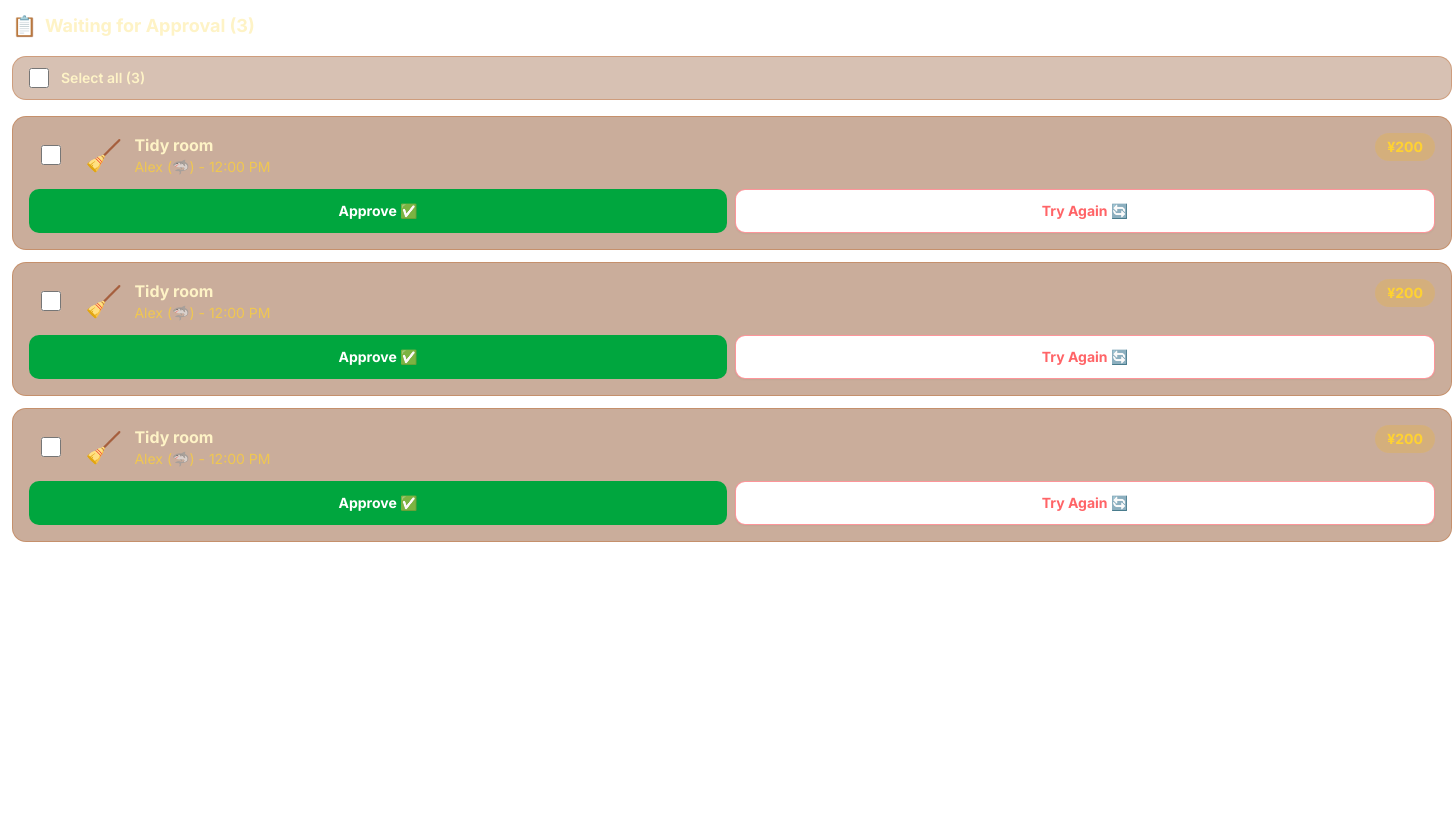
Test: ApprovalQueue › Wave 8b — bulk-approve › toggling a single card's checkbox does NOT touch the others
The width and height of the screenshot is (1452, 822).
Click the 2nd checkbox with test id "approval-card-checkbox": (51, 301) [41,291,61,311]
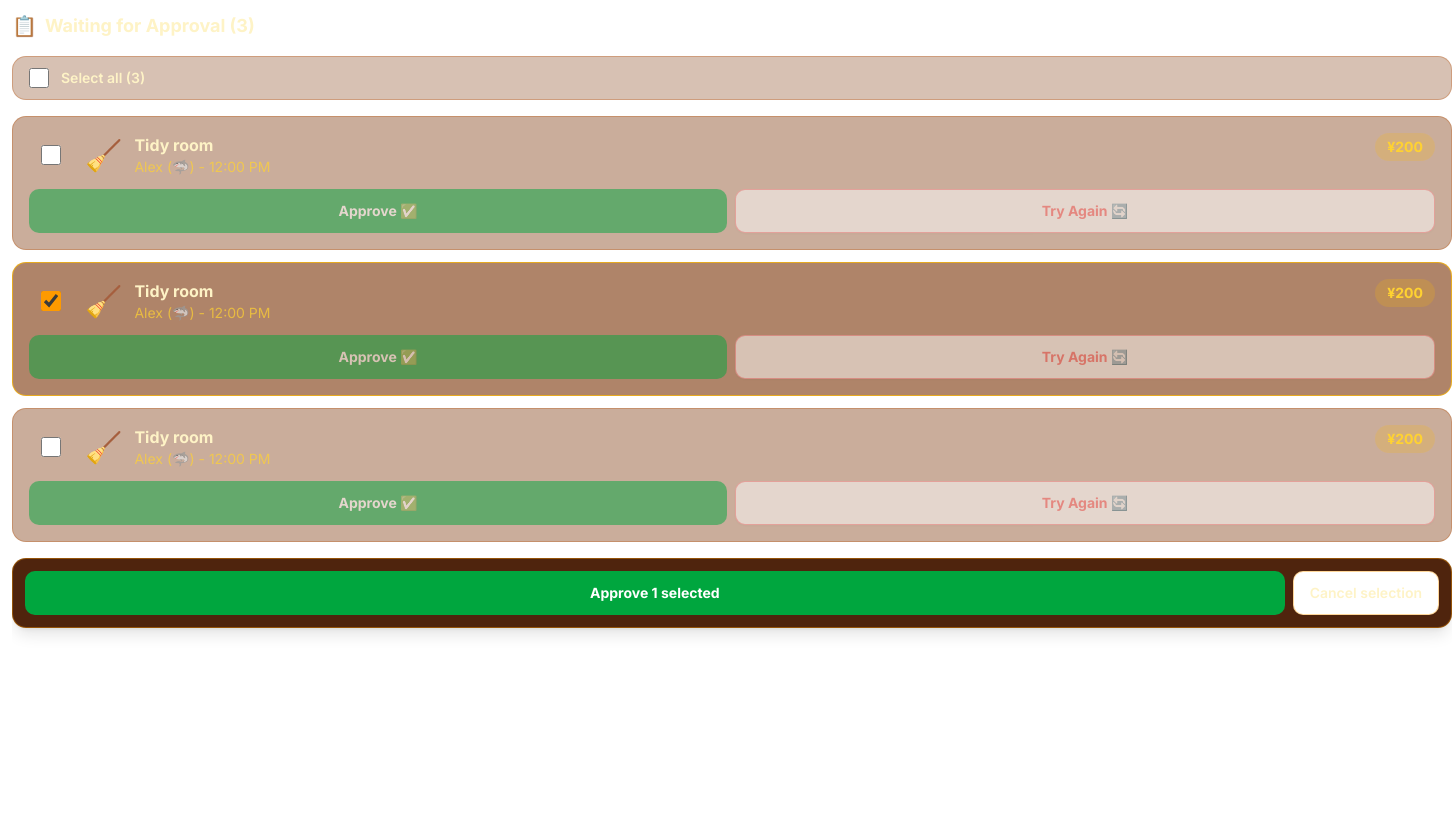
Expected: the 1st checkbox with test id "approval-card-checkbox" is not checked, [41,145,61,165]
Expected: the 2nd checkbox with test id "approval-card-checkbox" is checked, [41,291,61,311]
Expected: the button with test id "approval-queue-bulk-approve" shows "1 selected", [25,571,1285,615]
